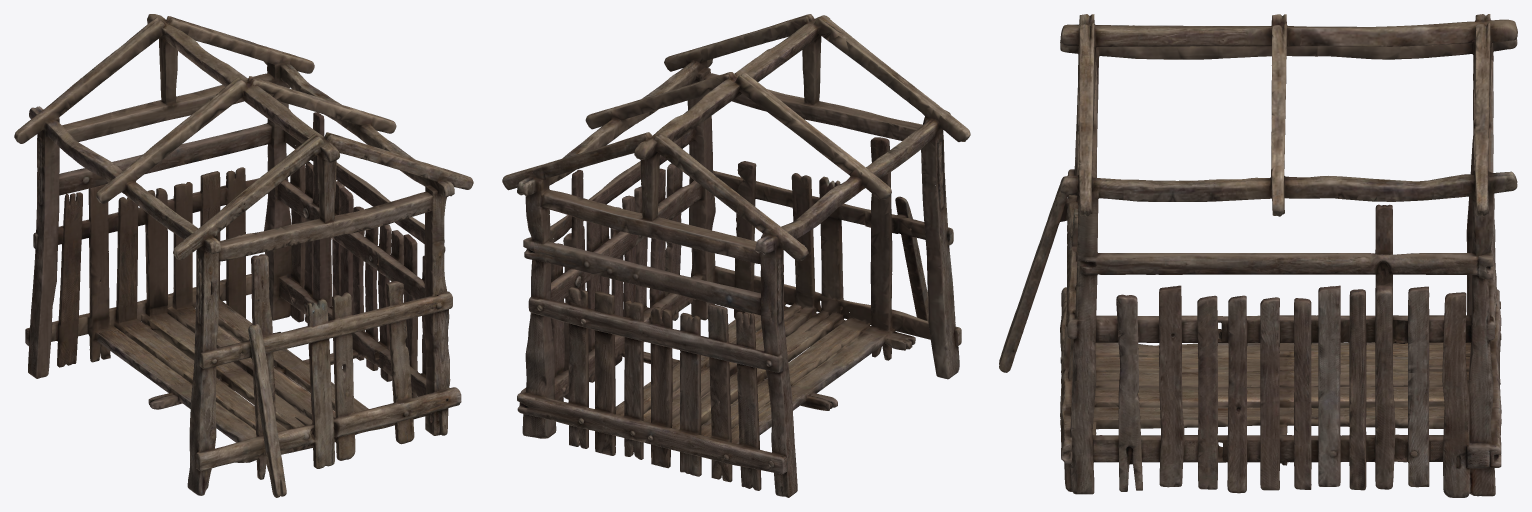
Rendered from stage-1-hut.glb.
3 views of the same model, side by side, from view 1: azimuth 30°, elevation 25°; view 2: azimuth 150°, elevation 25°; view 3: azimuth 270°, elevation 25° (orthographic). The views are drawn at different scales.
Visible parts, largest first — view 1: tripo_node_65122d7e-a6ad-4462-aa54-f7eab1a35250; view 2: tripo_node_65122d7e-a6ad-4462-aa54-f7eab1a35250; view 3: tripo_node_65122d7e-a6ad-4462-aa54-f7eab1a35250.
Part boxes in pixels (<box>): tripo_node_65122d7e-a6ad-4462-aa54-f7eab1a35250: <box>14,14,473,497</box>; tripo_node_65122d7e-a6ad-4462-aa54-f7eab1a35250: <box>502,14,970,497</box>; tripo_node_65122d7e-a6ad-4462-aa54-f7eab1a35250: <box>999,14,1517,497</box>.
Size of the model in its own units: 0.829 by 0.8627 by 1.
1 material, 1 textured.
